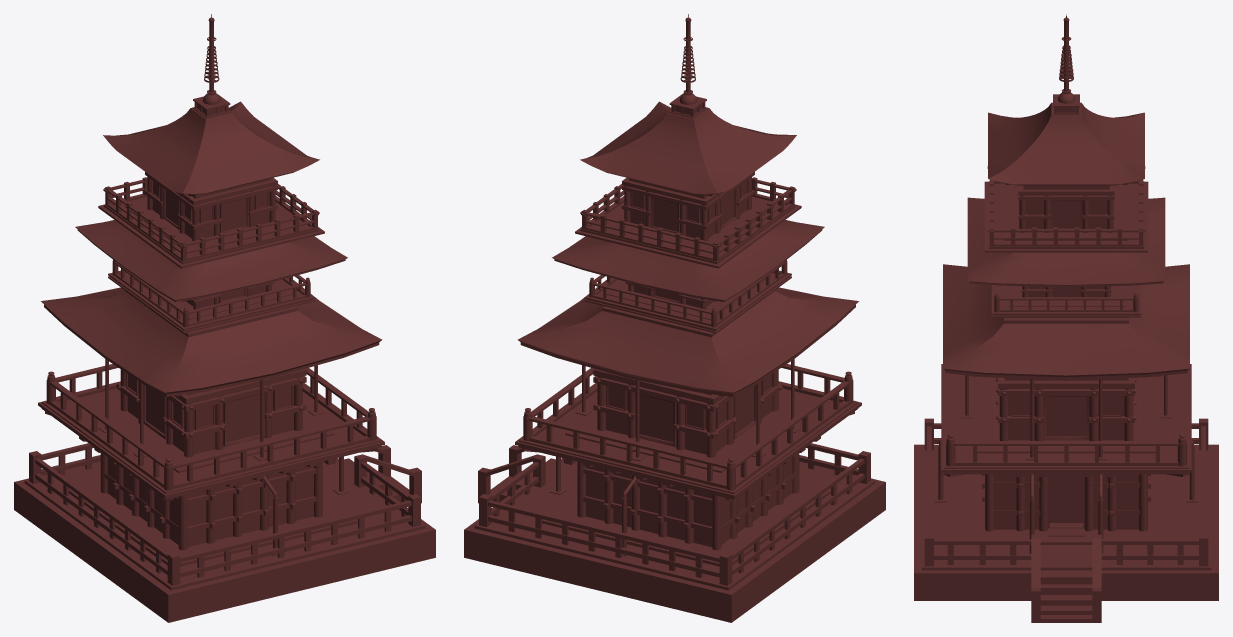
File: Tower.fbx
3 views of the same model, side by side, from view 1: azimuth 30°, elevation 25°; view 2: azimuth 150°, elevation 25°; view 3: azimuth 270°, elevation 25° (orthographic).
Visible parts, largest first — view 1: Tower; view 2: Tower; view 3: Tower.
Part boxes in pixels (<box>): Tower: <box>14,14,435,622</box>; Tower: <box>464,14,885,622</box>; Tower: <box>914,14,1218,622</box>.
Size of the model in its own units: 18.85 by 16.11 by 30.11.
